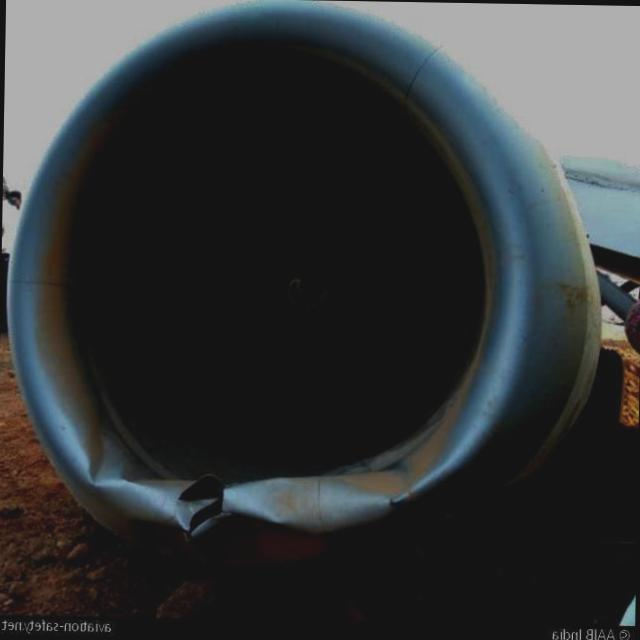dent: (246, 453, 409, 532), (76, 419, 135, 488)
